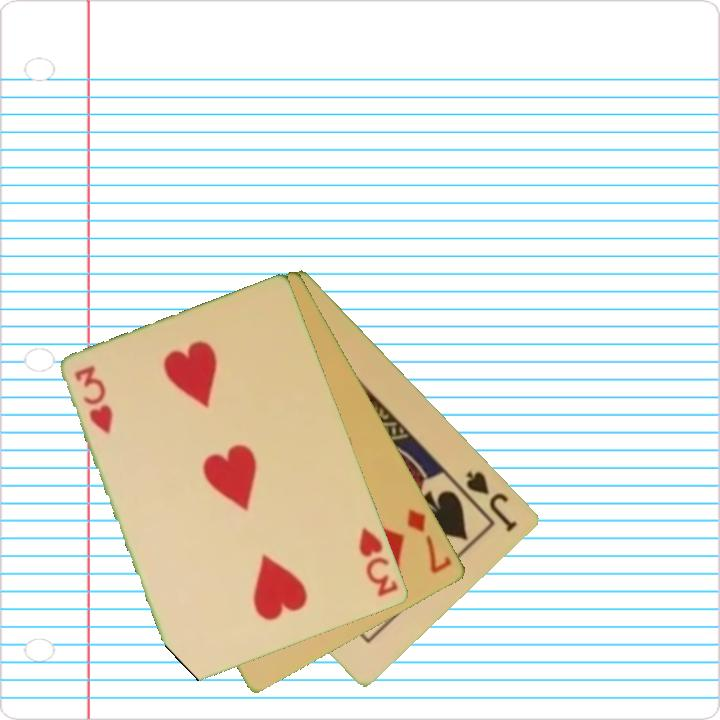3h: (355, 524, 402, 600), (71, 362, 117, 437)
7d: (404, 505, 455, 577)
Js: (462, 467, 521, 535)
